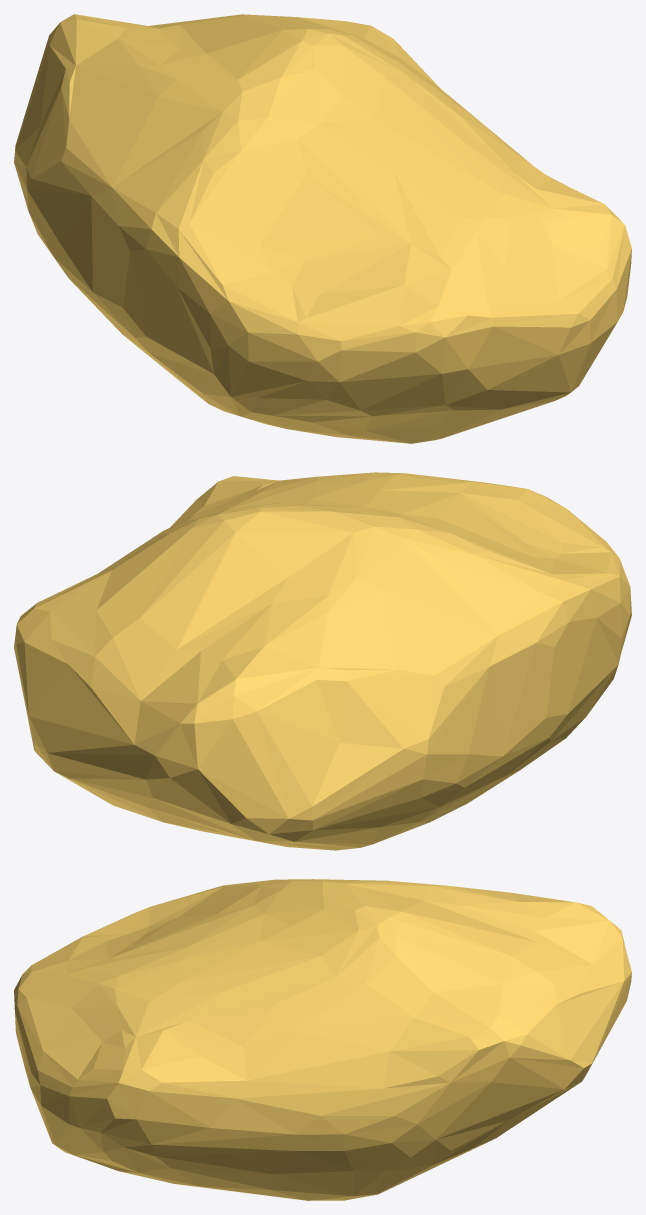
File: Rock 03.FBX
The picture shows the model from 3 angles, top to bottom: view 1: azimuth 30°, elevation 25°; view 2: azimuth 150°, elevation 25°; view 3: azimuth 270°, elevation 25°; orthographic projection. The views are drawn at different scales.
Visible parts, largest first — view 1: cube; view 2: cube; view 3: cube.
Boxes of the visible parts, left/top/right/bottom form: cube: left=14, top=14, right=631, bottom=443; cube: left=14, top=472, right=631, bottom=850; cube: left=14, top=879, right=631, bottom=1200.
Size of the model in its own units: 60.99 by 41.31 by 92.86.
